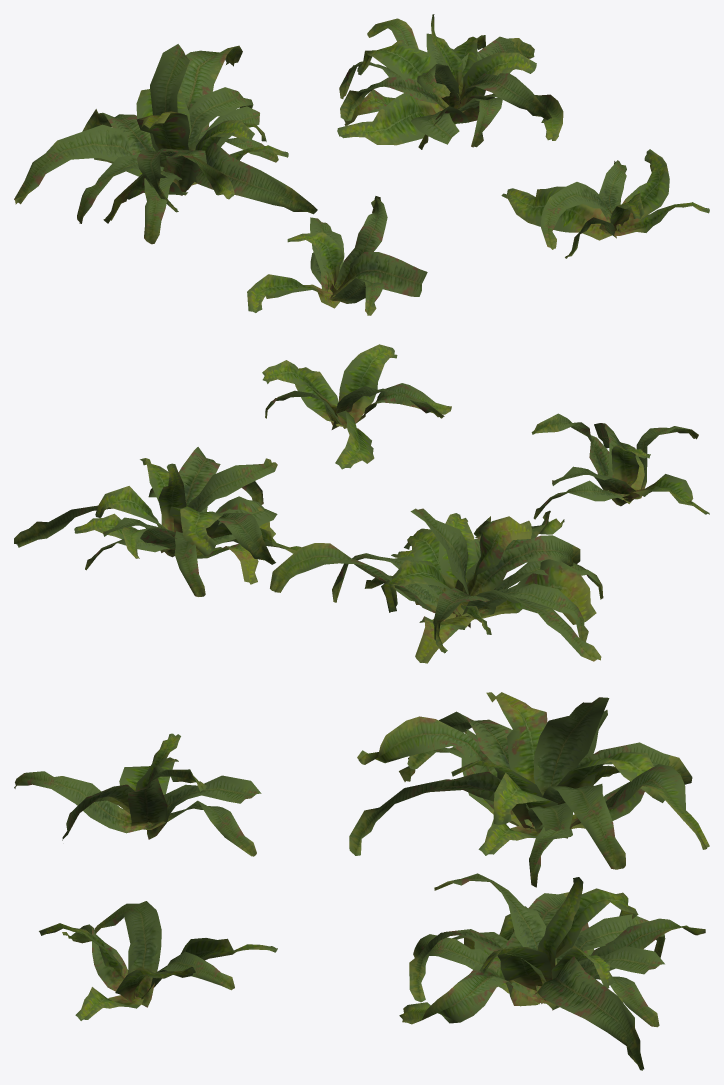
File: fern_02.glb
3 views of the same model, one above another, from view 1: azimuth 30°, elevation 25°; view 2: azimuth 150°, elevation 25°; view 3: azimuth 270°, elevation 25° (orthographic). The views are drawn at different scales.
Parts seen in each view (by area): view 1: fern_02_b, fern_02_c, fern_02_d, fern_02_a; view 2: fern_02_b, fern_02_c, fern_02_d, fern_02_a; view 3: fern_02_b, fern_02_c, fern_02_a, fern_02_d.
Boxes of the visible parts, x1,y1,x2,y2 form: fern_02_b: (14,44,317,244); fern_02_c: (337,14,563,149); fern_02_d: (501,149,709,258); fern_02_a: (247,196,427,315); fern_02_b: (270,508,603,663); fern_02_c: (14,447,301,596); fern_02_d: (262,344,451,469); fern_02_a: (531,413,709,519); fern_02_b: (349,692,709,887); fern_02_c: (399,873,705,1070); fern_02_a: (14,733,261,856); fern_02_d: (39,901,277,1020).
Bounding box in the file's own units: 1.97 × 0.4277 × 1.72.
Materials: 1 (1 with a texture image).
